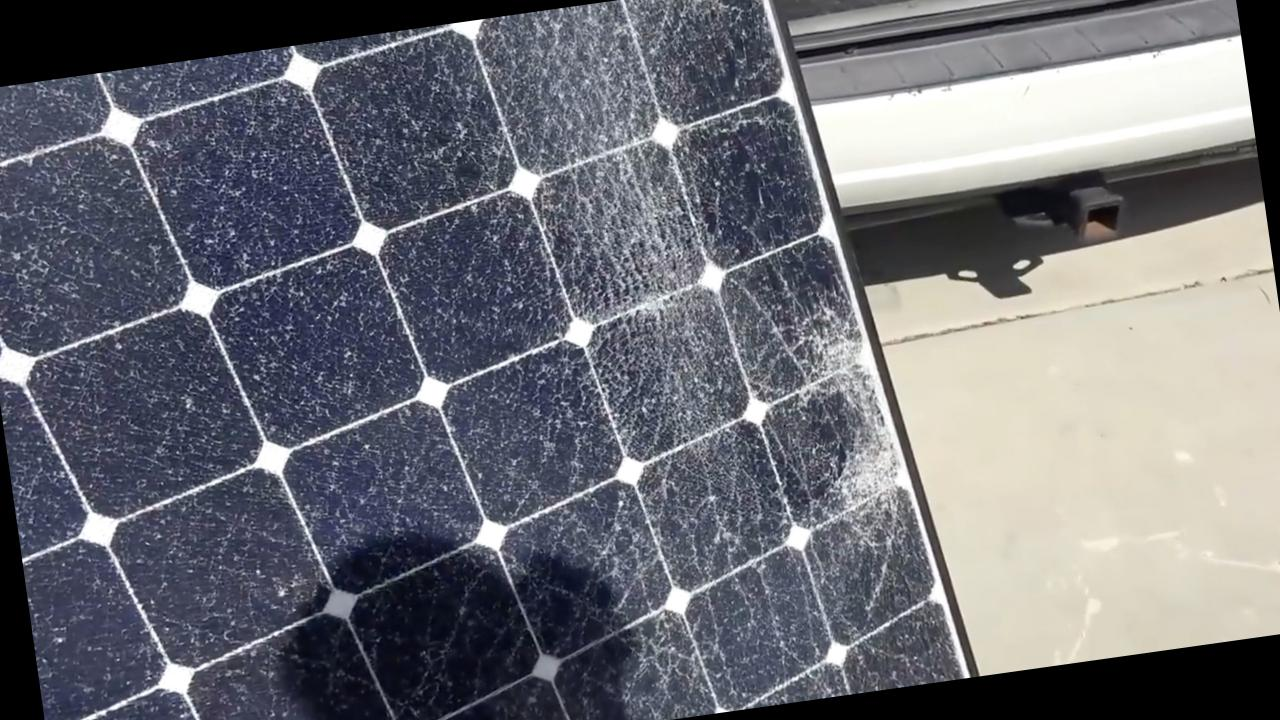Crack: (487, 0, 764, 386), (780, 261, 934, 626), (588, 450, 596, 454)
